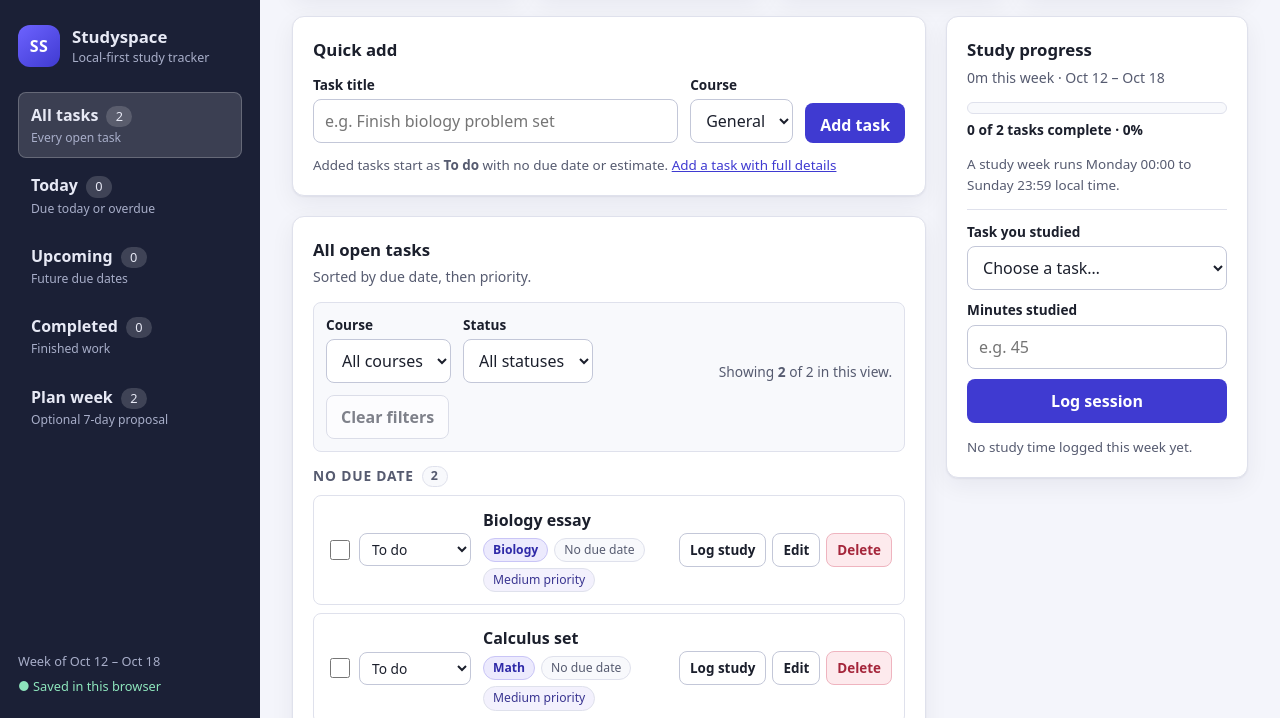
Test: Studyspace dashboard workflows › filters by course and status and explains an empty result
The width and height of the screenshot is (1280, 718).
(page scrolled)
Expected: the text "Biology essay" is shown, [483,509,591,531]
Expected: the text "Calculus set" is shown, [483,627,578,649]
Select "Biology" in the dropdown labelled "Course" in the row of "Showing" at (388, 361), box [326,339,451,383]
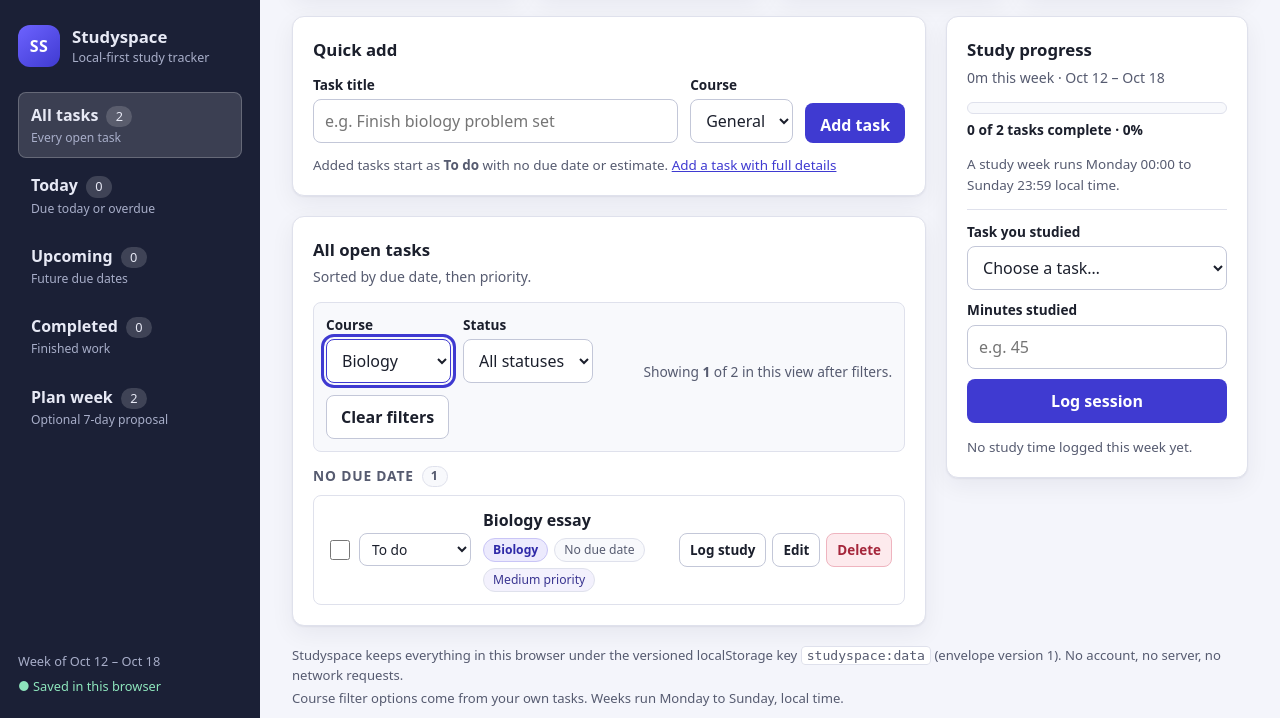
Expected: the text "Biology essay" is shown, [483,509,591,531]
Expected: the text "Calculus set" is gone
Select "In progress" in the dropdown labelled "Status" at (528, 361), box [463,339,593,383]
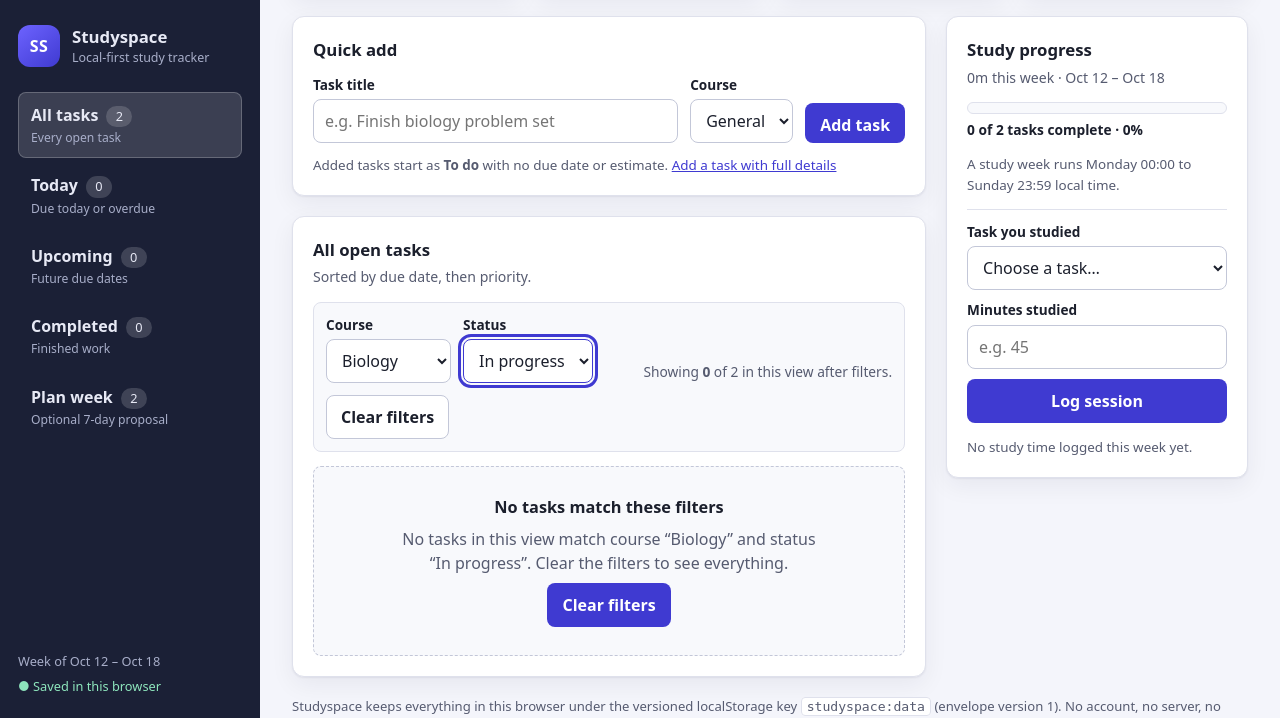
Expected: the text "Biology essay" is gone
Expected: the text "No tasks match these filters" is shown, [494,495,724,519]
Click the button "Clear filters" below "Showing" at (388, 417), box [326,395,449,439]
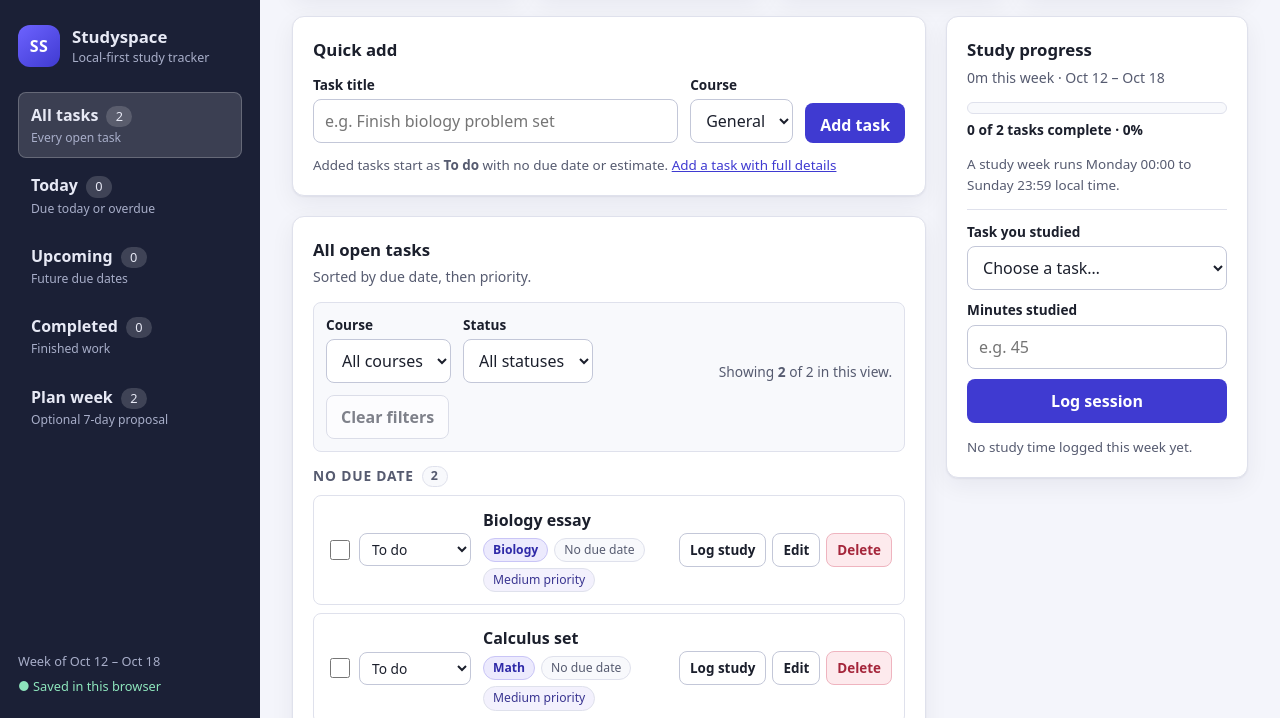
Expected: the text "Biology essay" is shown, [483,509,591,531]
Expected: the text "Calculus set" is shown, [483,627,578,649]
